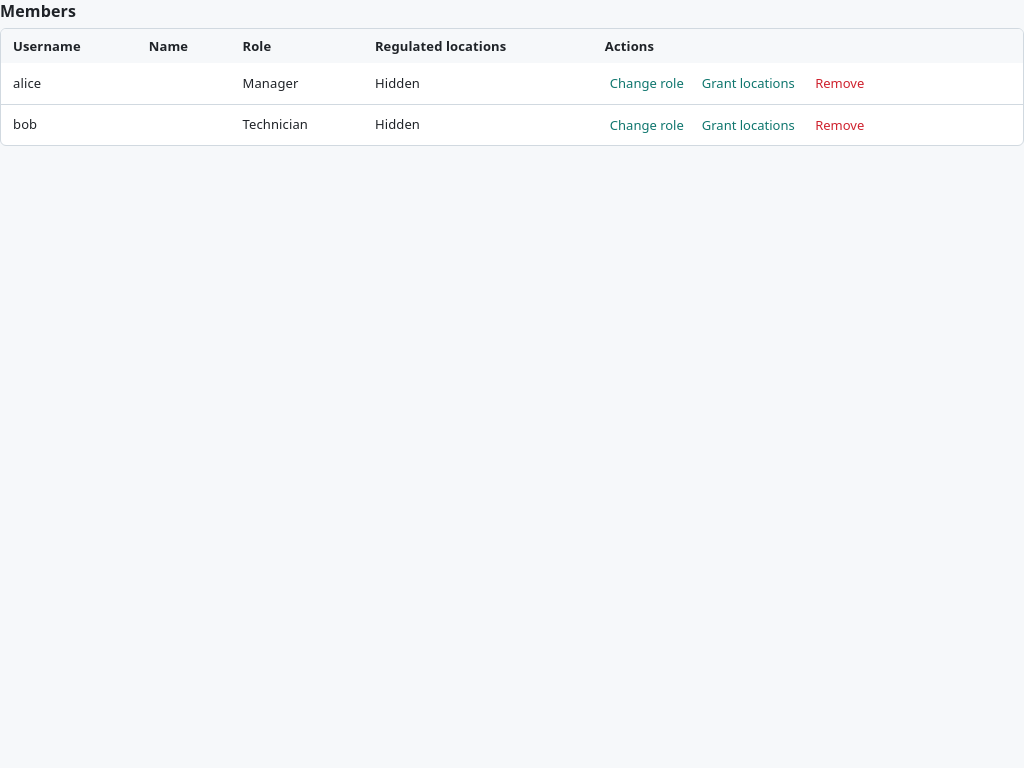
Test: changing a role › explains why the last manager stays, and keeps the dialog open
The image size is (1024, 768).
Expected: the table named "Members" is shown, [1,29,1023,146]
Click the button with aria-label "Change role of alice" at (647, 83), box [605,68,689,99]
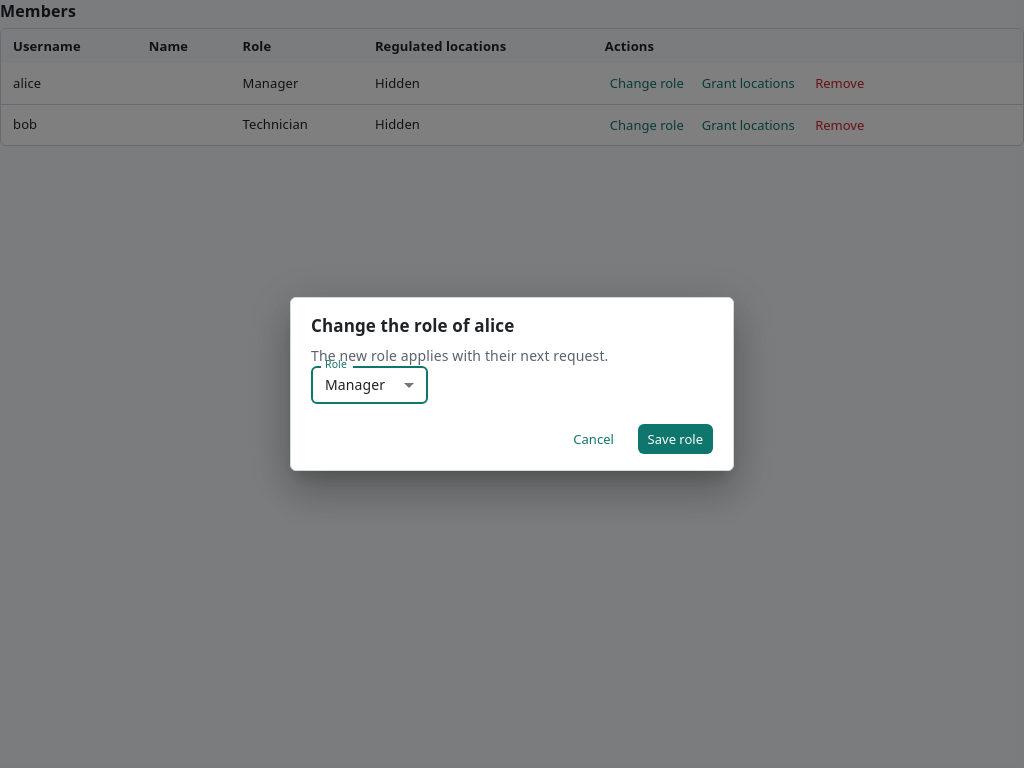
Select "Viewer" in the dropdown labelled "Role" at (370, 385), box [311,366,428,404]
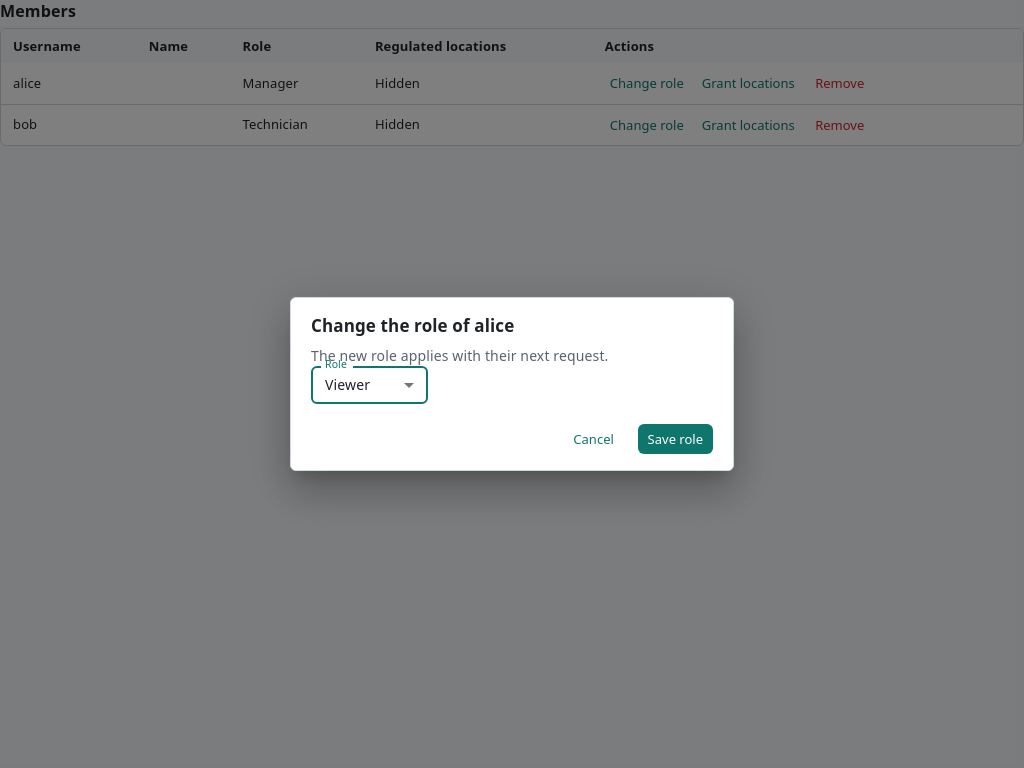
Click the button "Save role" at (675, 439), box [638,424,713,454]
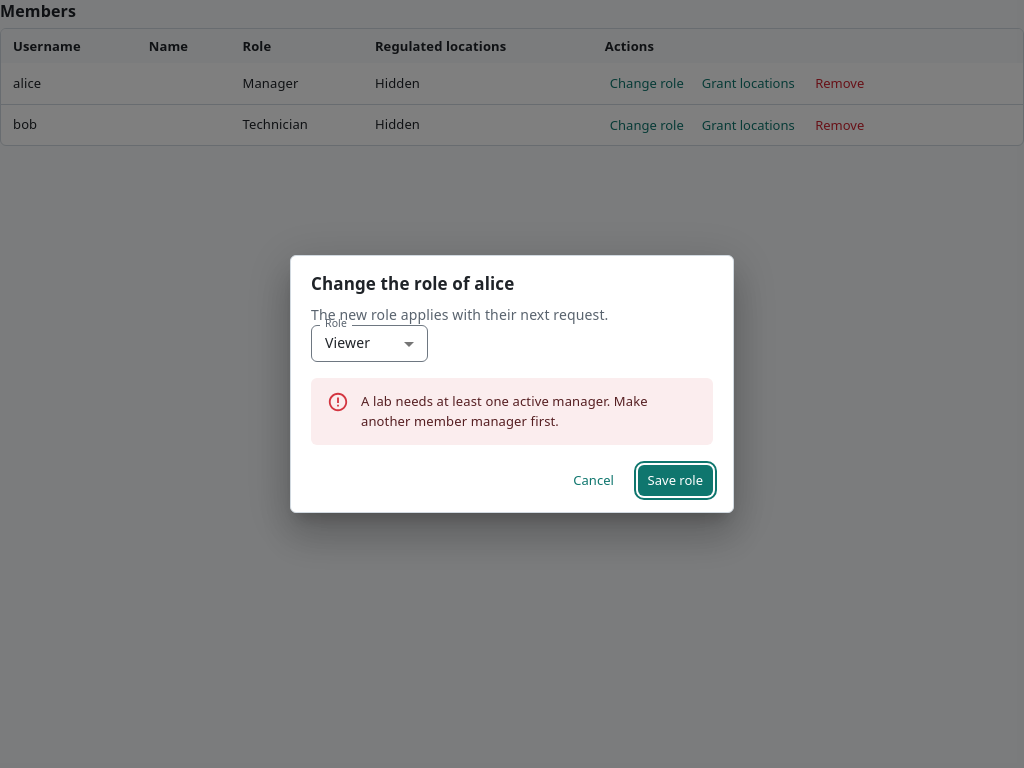
Result: the message reads "A lab needs at least one active manager. Make another member manager first." at [361,392,648,430]
